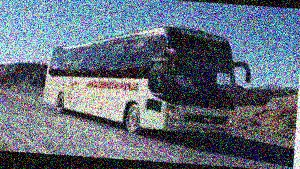bus: (40, 17, 253, 143)
